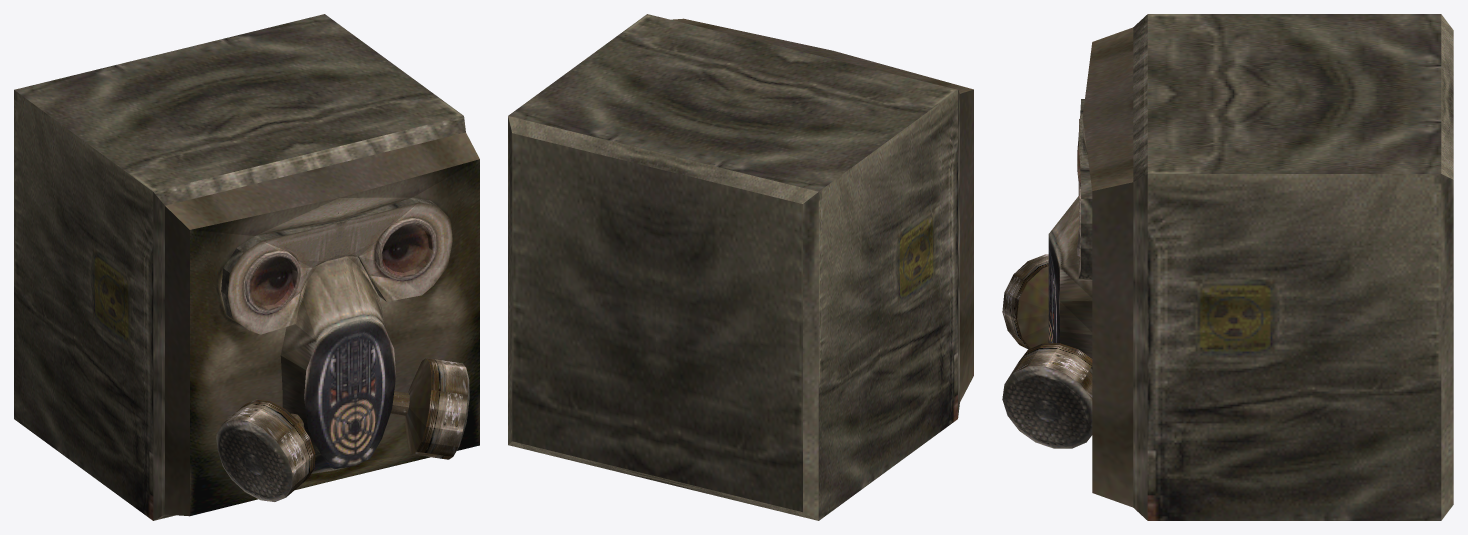
File: arm_zarya_head.obj
3 renders of one model, left to right at view 1: azimuth 30°, elevation 25°; view 2: azimuth 150°, elevation 25°; view 3: azimuth 270°, elevation 25°, orthographic. The views are drawn at different scales.
Parts seen in each view (by area): view 1: Cube.001; view 2: Cube.001; view 3: Cube.001.
Part boxes in pixels (<box>): Cube.001: <box>14,14,479,520</box>; Cube.001: <box>508,14,973,520</box>; Cube.001: <box>1002,14,1453,520</box>.
Size of the model in its own units: 2.11 by 2.13 by 2.51.
